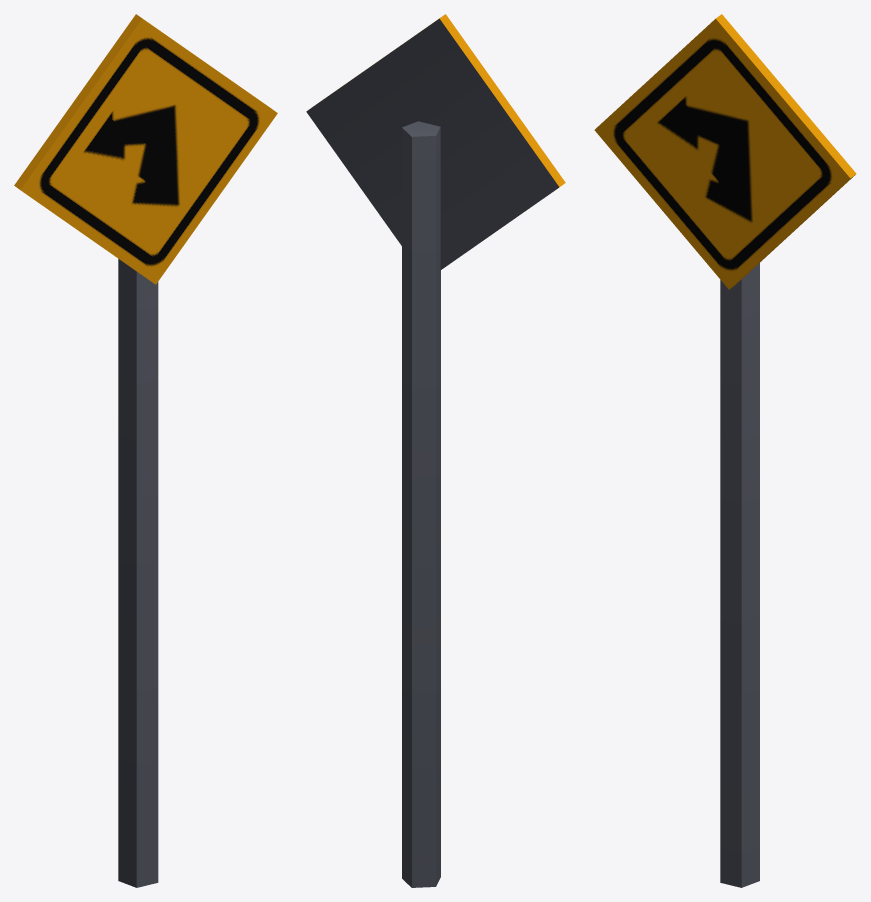
Rendered from SM_SignBoard_2.FBX.
3 renders of one model, left to right at view 1: azimuth 30°, elevation 25°; view 2: azimuth 150°, elevation 25°; view 3: azimuth 330°, elevation 25°, orthographic.
Parts seen in each view (by area): view 1: SM_SignBoard_2; view 2: SM_SignBoard_2; view 3: SM_SignBoard_2.
Boxes of the visible parts, x1=… form: SM_SignBoard_2: x1=14, y1=14, x2=277, y2=887; SM_SignBoard_2: x1=306, y1=14, x2=565, y2=887; SM_SignBoard_2: x1=594, y1=14, x2=856, y2=887.
Size of what is drawn, in the model's own units: 98.86 by 16.1 by 320.
